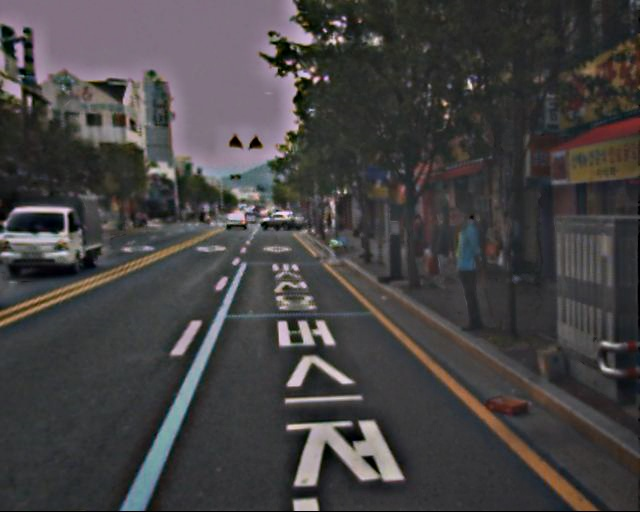person: (439, 210, 487, 328), (423, 211, 453, 283), (497, 216, 527, 288), (409, 214, 429, 262)
